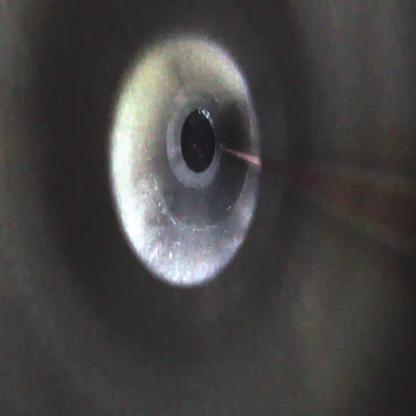NoCrack: (107, 34, 263, 292)
